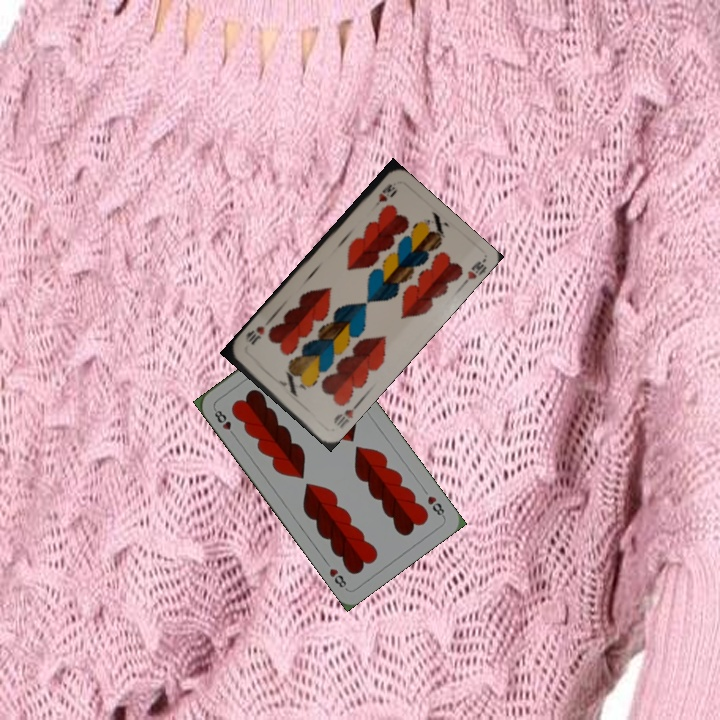H10: (329, 399, 361, 431), (367, 180, 397, 214)
H8: (210, 404, 238, 440), (423, 492, 447, 520)
